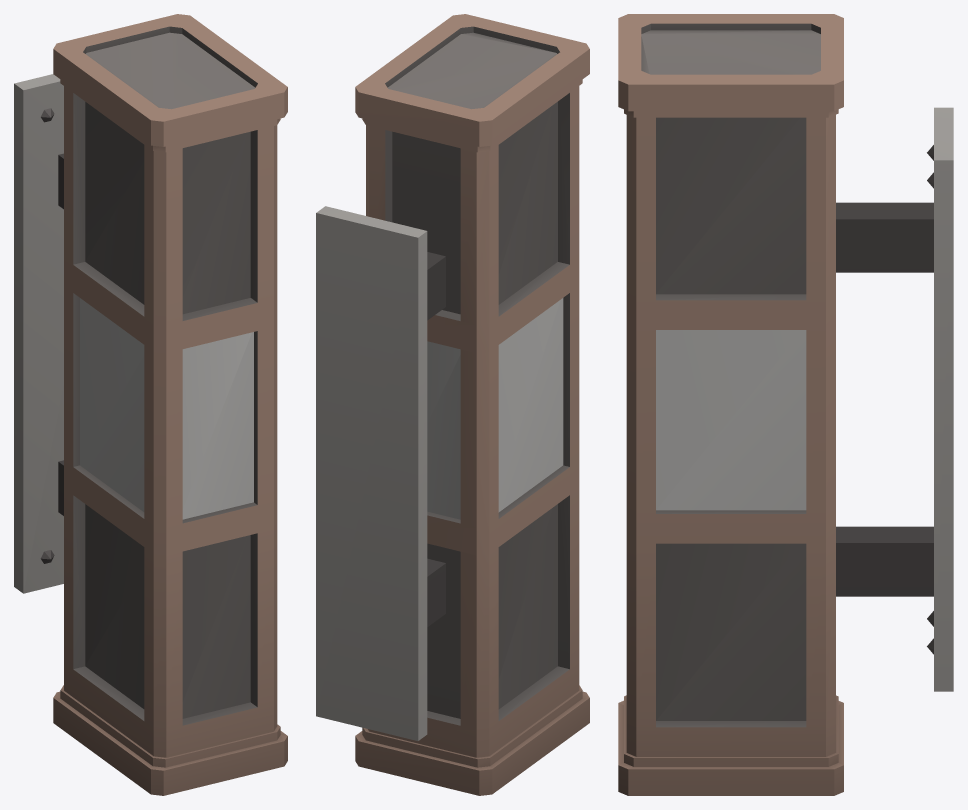
Rendered from sign.glb.
3 renders of one model, left to right at view 1: azimuth 30°, elevation 25°; view 2: azimuth 150°, elevation 25°; view 3: azimuth 270°, elevation 25°, orthographic. The views are drawn at different scales.
Parts seen in each view (by area): view 1: sign; view 2: sign; view 3: sign.
Part boxes in pixels (x1=…): sign: x1=14, y1=14, x2=287, y2=795; sign: x1=316, y1=14, x2=589, y2=795; sign: x1=618, y1=14, x2=953, y2=795.
Bounding box in the file's own units: 0.51 × 2.4 × 1.02.
